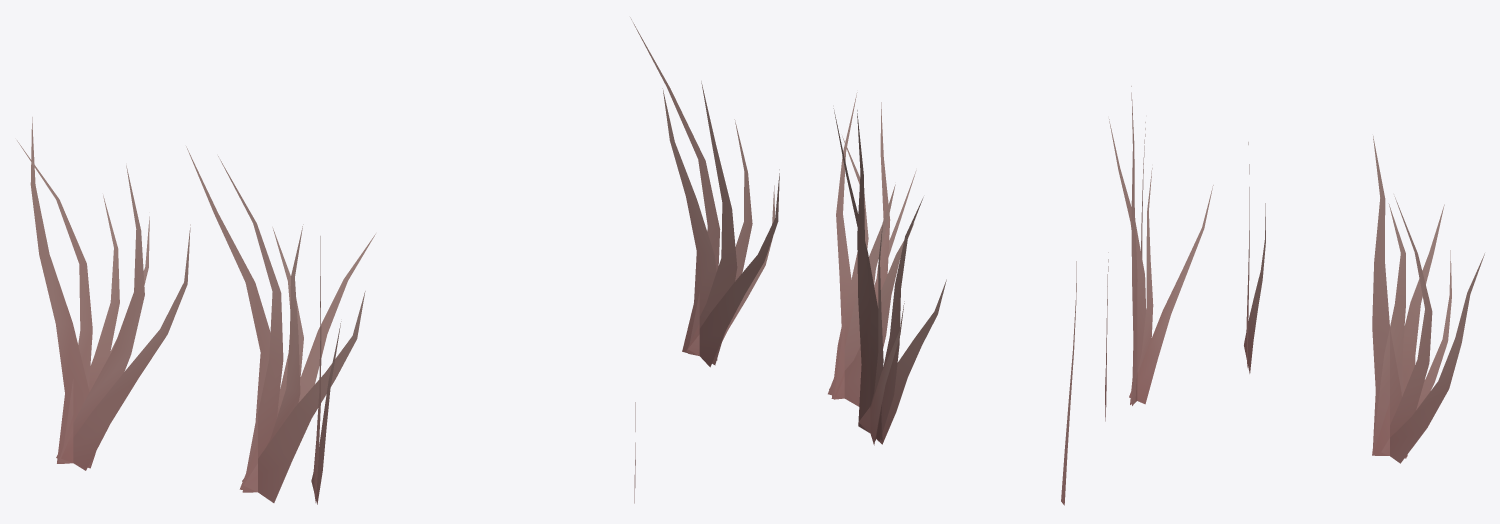
File: mesh-plant-025-lace-fan_LOD1.glb
The picture shows the model from 3 angles, left to right: view 1: azimuth 30°, elevation 25°; view 2: azimuth 150°, elevation 25°; view 3: azimuth 270°, elevation 25°; orthographic projection. The views are drawn at different scales.
Parts seen in each view (by area): view 1: geometry_0; view 2: geometry_0; view 3: geometry_0.
Boxes of the visible parts, x1,y1,x2,y2 form: geometry_0: (17,117,375,504); geometry_0: (630,17,946,503); geometry_0: (1061,86,1484,505).
Size of the model in its own units: 1.21 by 0.9916 by 1.3.
